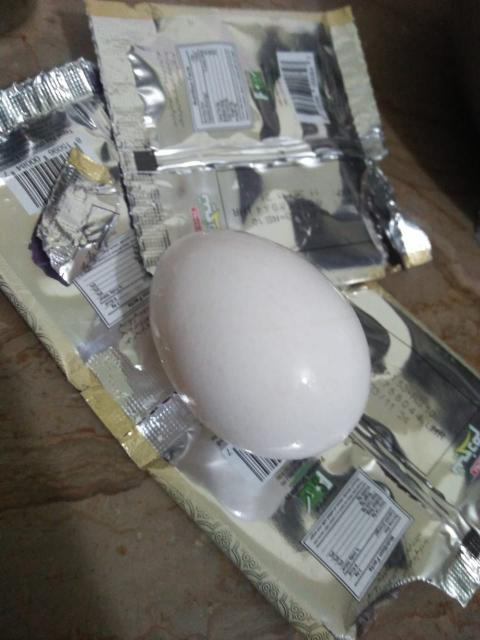Sano: (151, 226, 370, 458)
